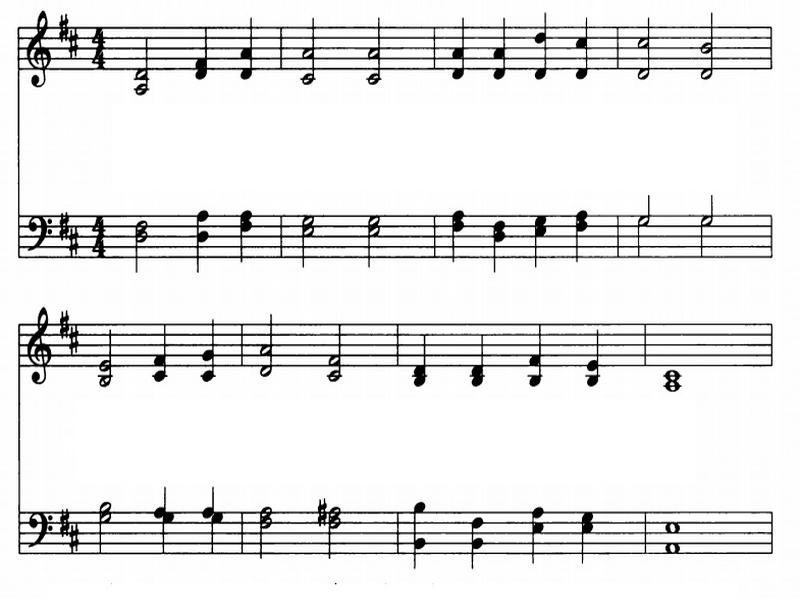B: (85, 311, 137, 391), (684, 12, 726, 86), (124, 202, 157, 275), (627, 14, 664, 79), (358, 14, 389, 91), (291, 15, 324, 87), (295, 207, 325, 272), (353, 211, 390, 263), (94, 497, 126, 554), (693, 214, 722, 274), (255, 309, 279, 378), (321, 505, 351, 560), (249, 500, 274, 564), (130, 34, 153, 97), (322, 325, 347, 381), (694, 188, 727, 228), (627, 214, 649, 257), (640, 195, 656, 226)
CF: (22, 208, 54, 263), (26, 506, 53, 557)
CS: (18, 7, 57, 98), (23, 301, 53, 398)
N: (435, 12, 481, 86), (399, 499, 437, 571), (175, 24, 219, 82), (144, 315, 174, 397), (570, 317, 602, 391), (527, 2, 556, 83), (487, 2, 515, 84), (235, 16, 264, 86), (520, 327, 553, 388), (493, 216, 517, 297), (192, 315, 219, 387), (518, 508, 547, 575), (567, 19, 597, 81), (229, 204, 259, 264), (465, 517, 494, 578), (405, 334, 434, 393), (570, 198, 590, 282), (529, 206, 553, 274), (576, 507, 598, 580), (445, 204, 474, 259), (466, 334, 493, 390), (192, 205, 210, 274), (151, 483, 172, 515), (196, 486, 214, 522), (212, 511, 228, 549), (159, 514, 177, 547)
R: (662, 541, 686, 559), (657, 517, 682, 534), (658, 366, 683, 380), (662, 383, 684, 395)
SOS: (304, 500, 335, 525), (67, 230, 83, 264), (49, 12, 66, 42), (69, 33, 84, 64), (69, 324, 82, 356), (53, 211, 67, 240), (56, 311, 70, 338)
